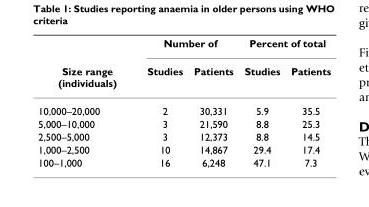table: (37, 36, 330, 168)
table column: (37, 36, 131, 168), (131, 36, 187, 168), (187, 36, 238, 168), (238, 36, 284, 168), (284, 36, 330, 168)
table column header: (37, 36, 330, 96)
table row: (37, 56, 330, 96), (37, 36, 330, 56), (37, 96, 330, 116), (37, 116, 330, 129), (37, 129, 330, 142), (37, 142, 330, 155), (37, 155, 330, 168)
table spanning cell: (37, 36, 131, 96), (131, 36, 238, 56), (238, 36, 330, 56)
